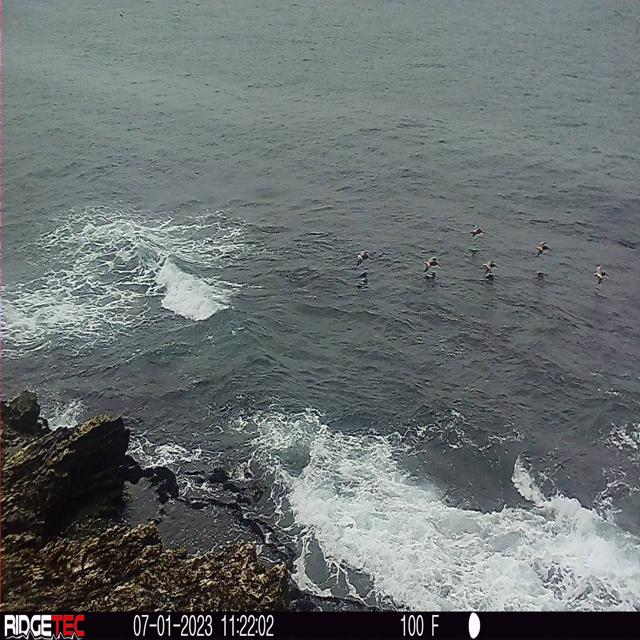bird: (593, 263, 609, 286)
